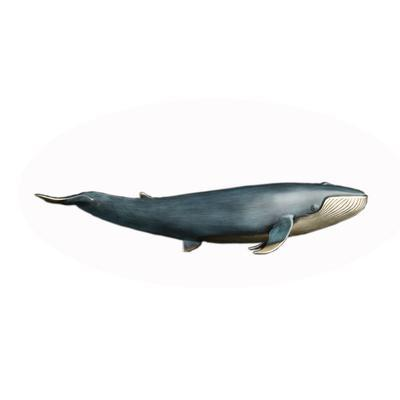fish: (29, 168, 371, 257)
